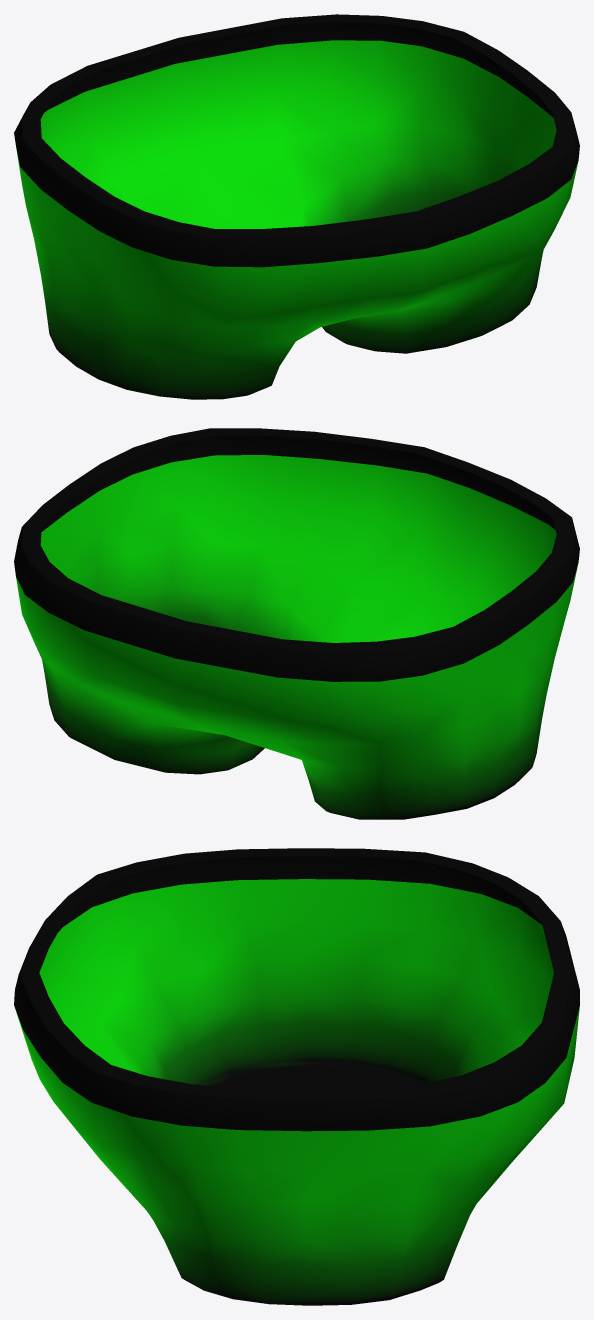
The picture shows the model from 3 angles, top to bottom: view 1: azimuth 30°, elevation 25°; view 2: azimuth 150°, elevation 25°; view 3: azimuth 270°, elevation 25°; orthographic projection. The views are drawn at different scales.
Parts seen in each view (by area): view 1: OD_low; view 2: OD_low; view 3: OD_low.
Part boxes in pixels (x1=…): OD_low: x1=14, y1=14, x2=579, y2=399; OD_low: x1=14, y1=428, x2=579, y2=819; OD_low: x1=14, y1=848, x2=579, y2=1305.
Size of the model in its own units: 21.86 by 10.13 by 20.58.
